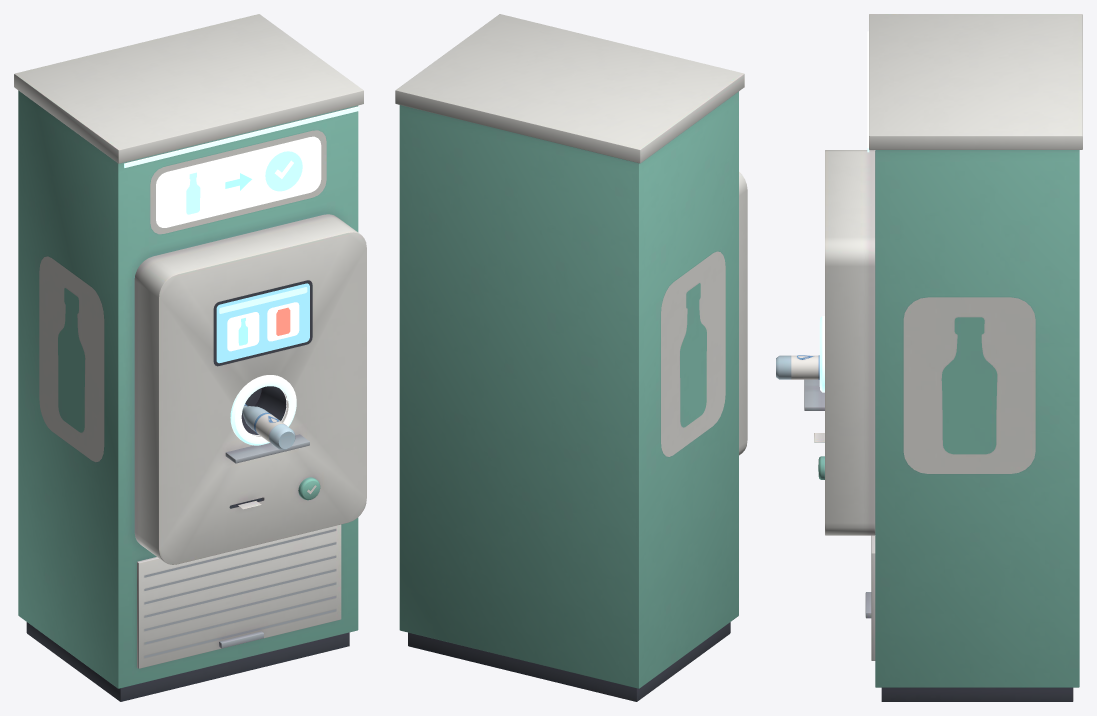
The model's file is bottle-return-machine.glb.
The picture shows the model from 3 angles, left to right: view 1: azimuth 30°, elevation 25°; view 2: azimuth 150°, elevation 25°; view 3: azimuth 270°, elevation 25°; orthographic projection. The views are drawn at different scales.
Parts seen in each view (by area): view 1: bottle-return-machine_body, bottle-return-machine_info_screen, bottle-return-machine_ring_glow; view 2: bottle-return-machine_body; view 3: bottle-return-machine_body, bottle-return-machine_ring_glow.
Boxes of the visible parts, x1=… form: bottle-return-machine_body: x1=14, y1=14, x2=366, y2=701; bottle-return-machine_info_screen: x1=156, y1=136, x2=321, y2=363; bottle-return-machine_ring_glow: x1=124, y1=106, x2=359, y2=445; bottle-return-machine_body: x1=395, y1=14, x2=747, y2=701; bottle-return-machine_body: x1=776, y1=14, x2=1082, y2=701; bottle-return-machine_ring_glow: x1=819, y1=31, x2=869, y2=392.
Size of the model in its own units: 0.92 by 2 by 0.975.
Materials: 10 (1 with a texture image).
